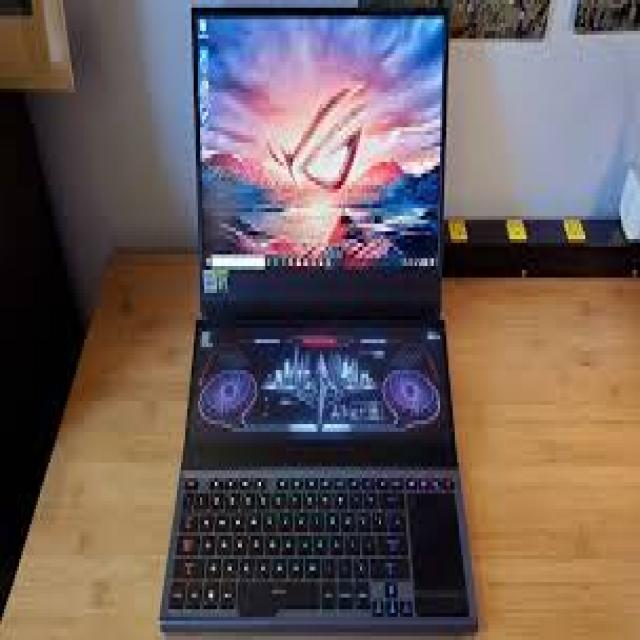others: (147, 4, 478, 640)
